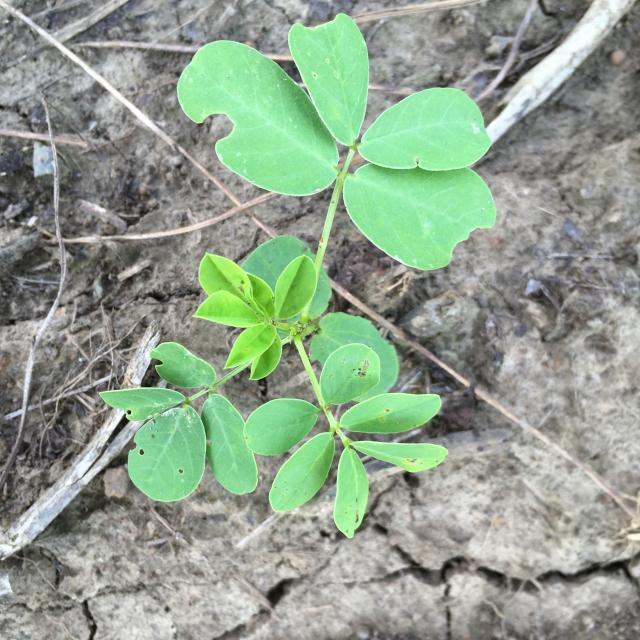Sicklepod: (99, 13, 497, 539)
